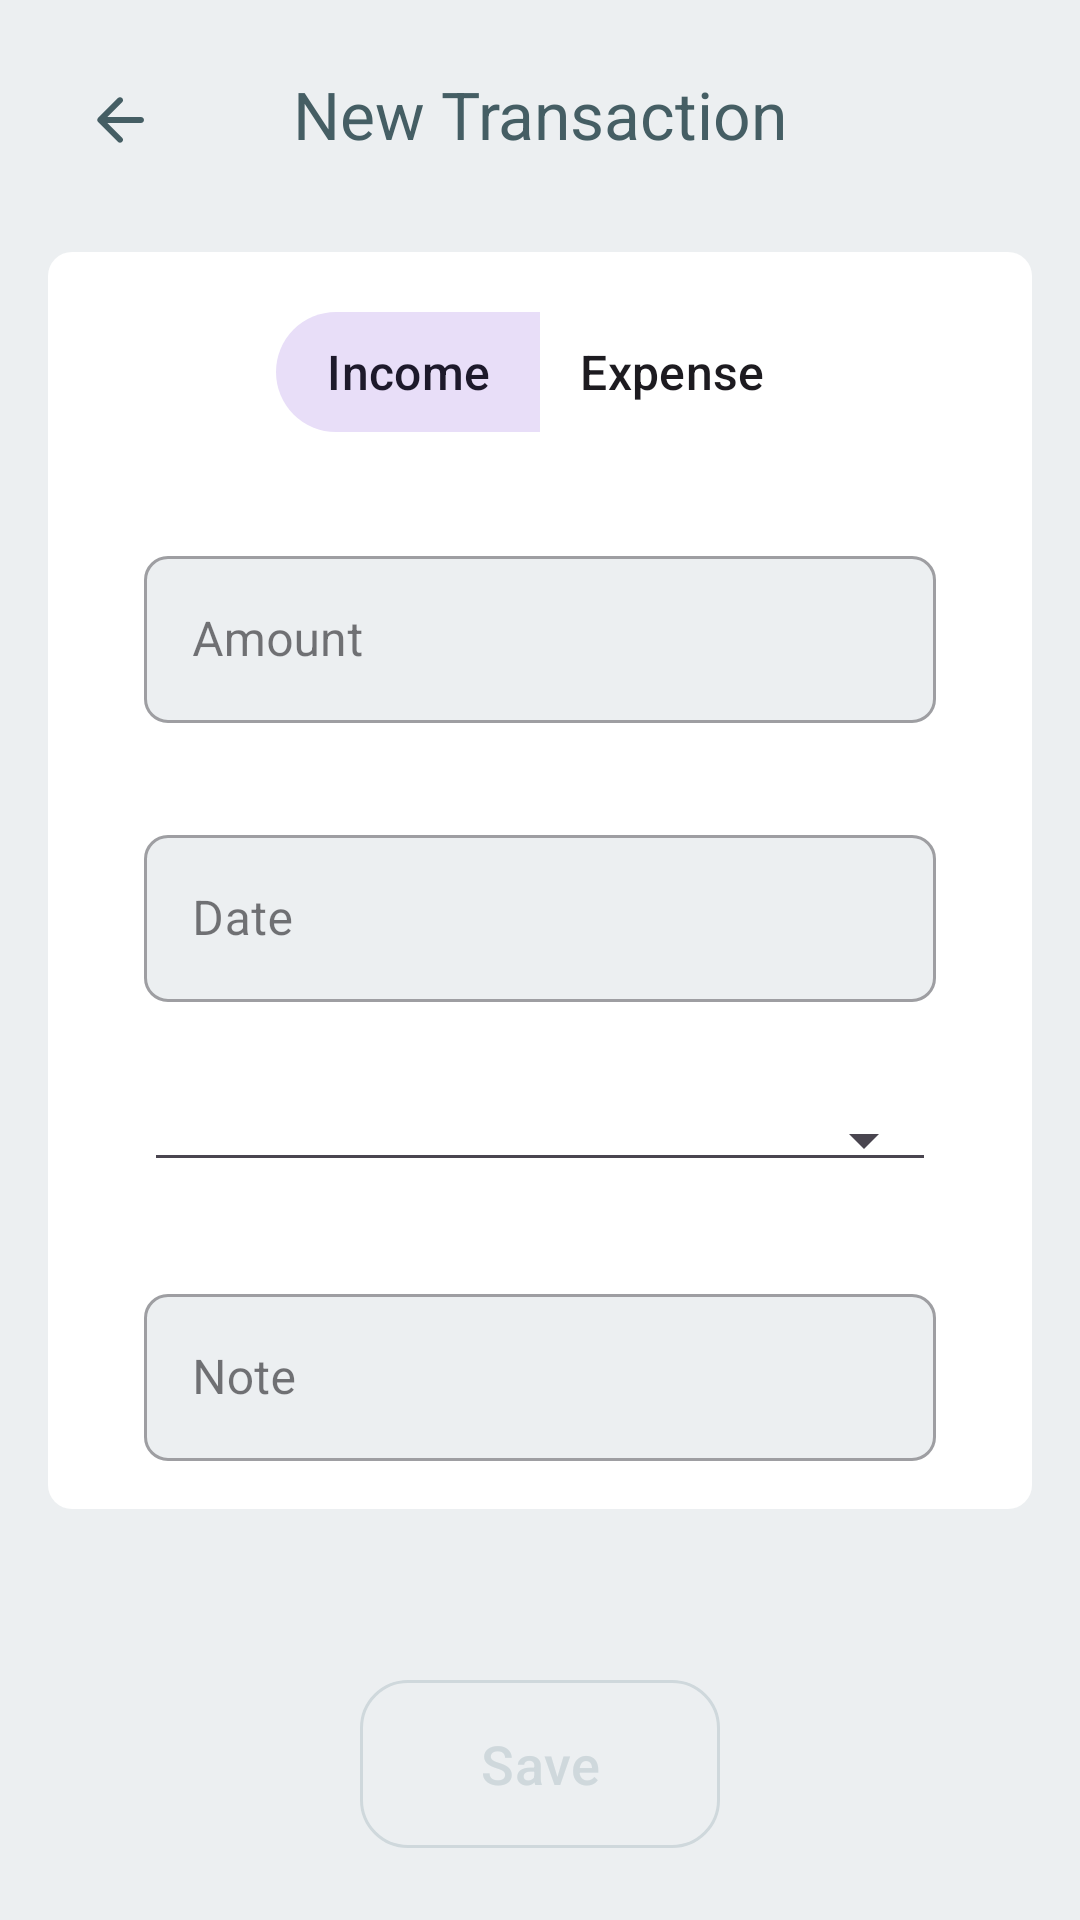

Icons on this 1080w x 1920h Android screen, each with the point to tap as (x,y):
Back Button: (120,120)
